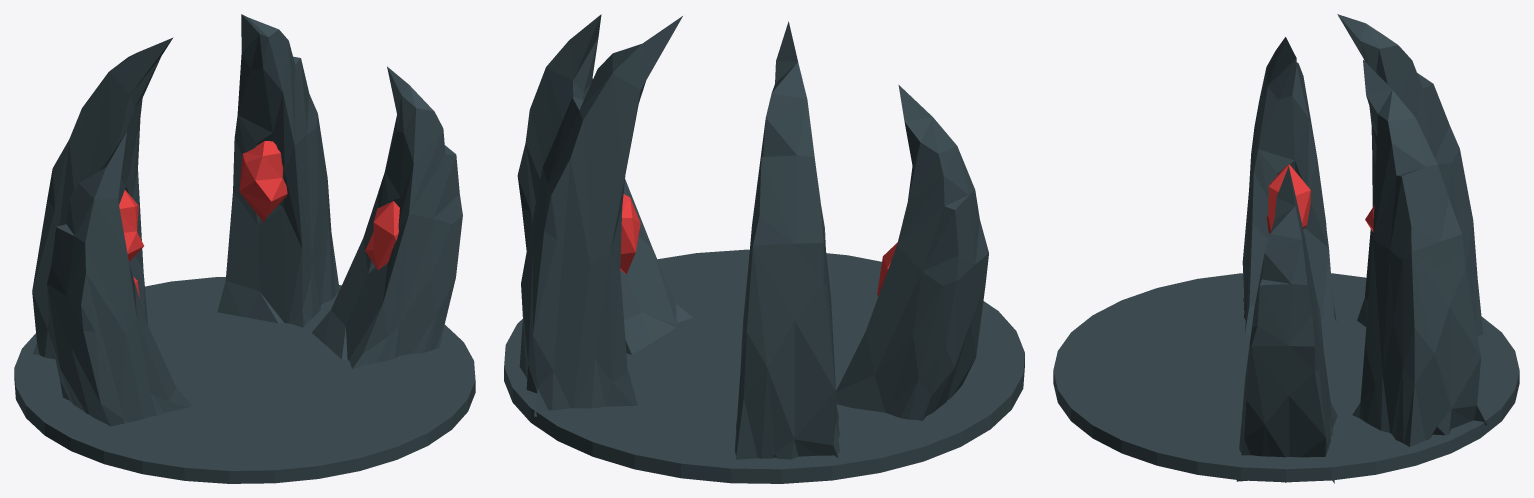
Rendered from portal.fbx.
3 renders of one model, left to right at view 1: azimuth 30°, elevation 25°; view 2: azimuth 150°, elevation 25°; view 3: azimuth 270°, elevation 25°, orthographic. The views are drawn at different scales.
Visible parts, largest first — view 1: Cylinder.001; view 2: Cylinder.001; view 3: Cylinder.001.
Boxes of the visible parts, box(x1,y1,x2,y2) form: Cylinder.001: box(14, 14, 475, 483); Cylinder.001: box(504, 14, 1024, 483); Cylinder.001: box(1053, 14, 1519, 483).
Bounding box in the file's own units: 1422 × 1207 × 1401.
